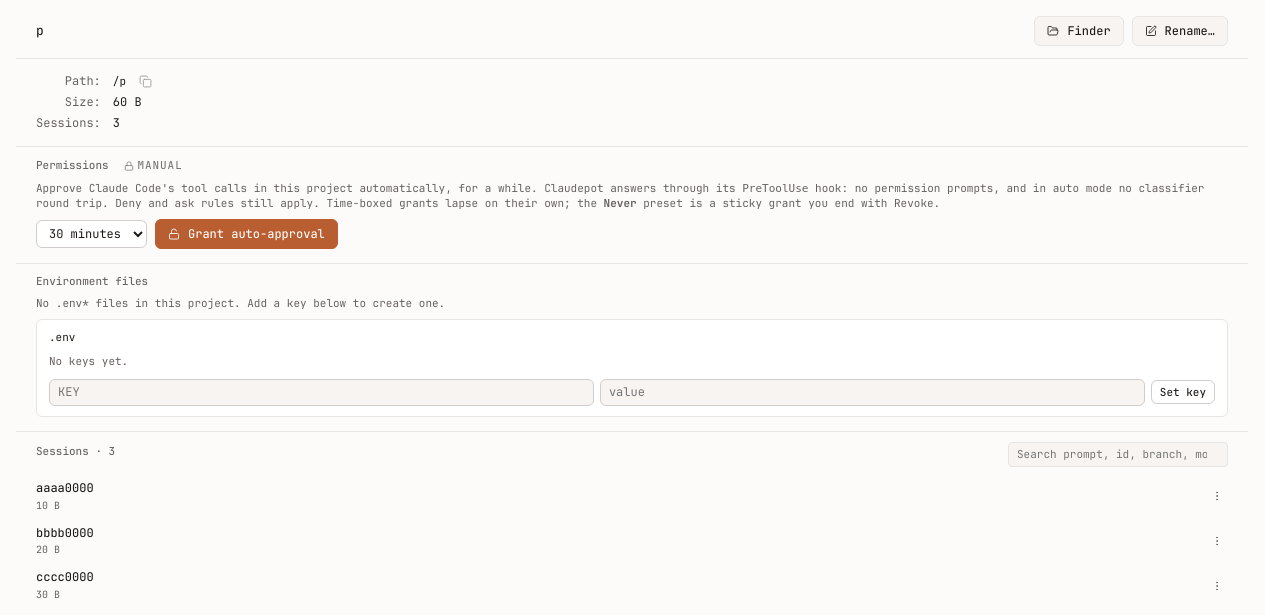
Test: ProjectDetail › session list filters by id prefix (B3)
The width and height of the screenshot is (1265, 615).
In the search field named "search sessions": [1118, 454] box [1008,442,1228,467], type "bbbb"
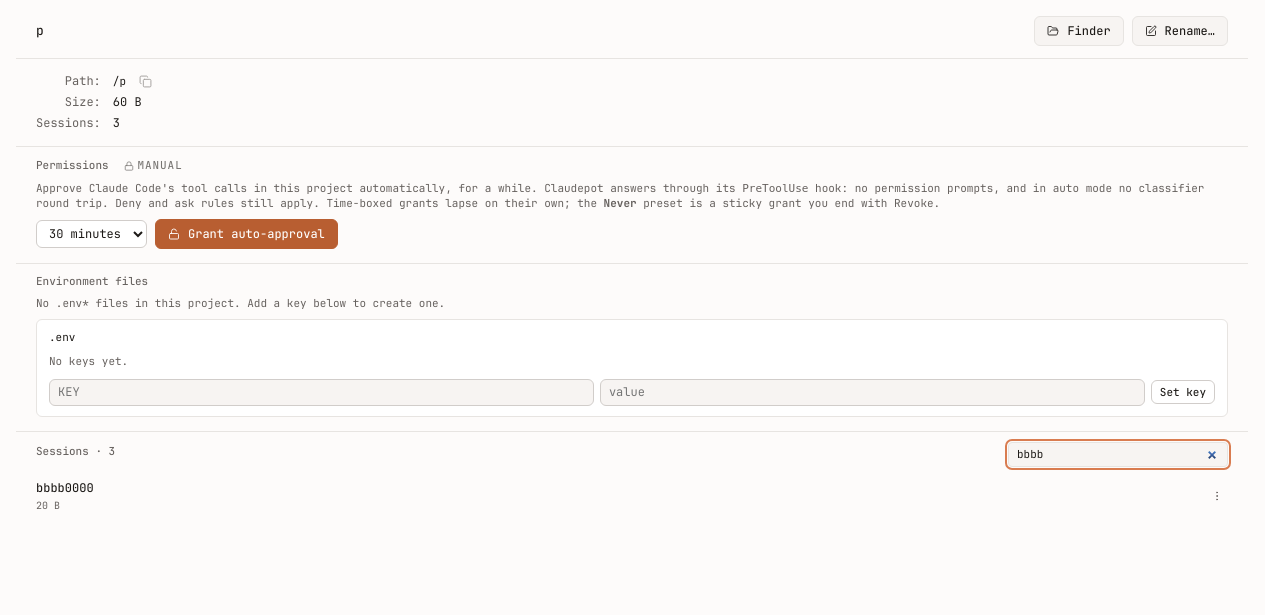
expect the number of options is 1: met, box [26,475,1238,518]
